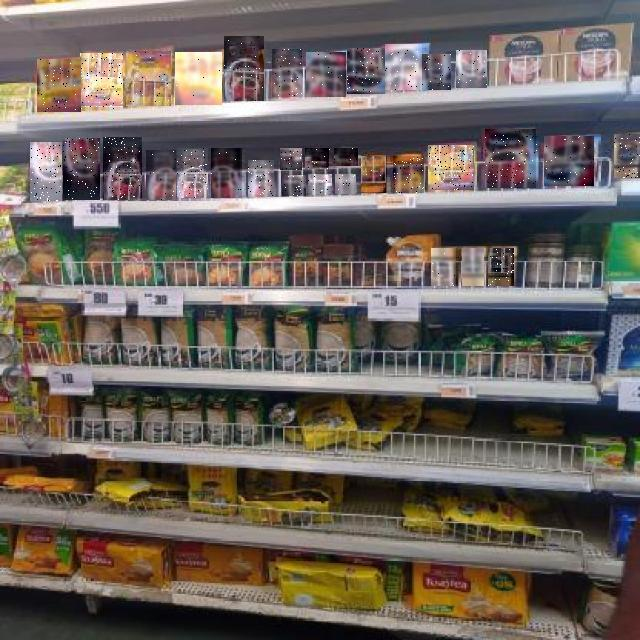Coffee: (486, 129, 538, 188), (224, 36, 264, 101), (544, 136, 594, 186), (175, 52, 222, 105), (126, 51, 171, 106), (103, 137, 142, 200), (80, 54, 123, 110), (37, 59, 81, 112), (63, 138, 100, 200), (429, 145, 475, 190), (30, 142, 62, 201), (306, 52, 346, 97), (386, 45, 424, 91), (347, 49, 385, 95), (212, 148, 244, 198), (177, 148, 208, 198), (146, 151, 176, 201), (272, 49, 302, 97), (456, 50, 487, 88), (393, 156, 424, 193), (614, 134, 640, 178), (362, 156, 390, 193), (423, 55, 451, 91), (489, 248, 515, 286), (432, 248, 458, 286), (248, 160, 274, 197), (462, 248, 484, 286), (306, 148, 332, 169), (308, 174, 332, 195), (282, 175, 306, 196), (280, 148, 302, 170), (334, 148, 358, 166), (335, 174, 356, 194)
